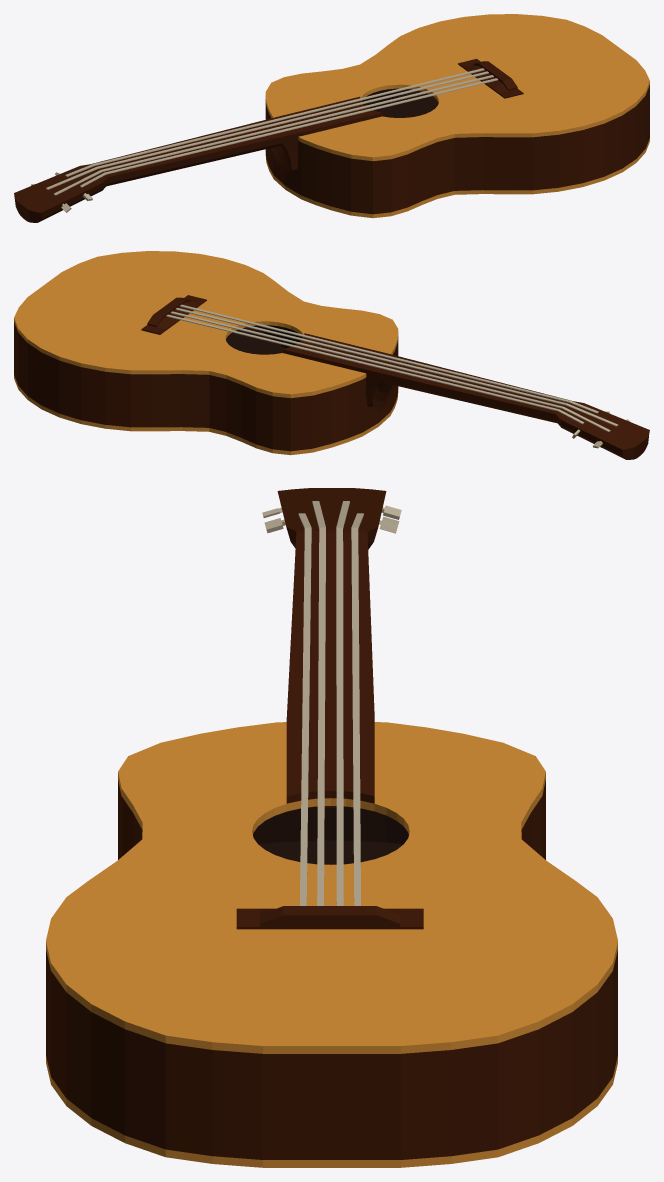
The model's file is guitar.fbx.
3 views of the same model, one above another, from view 1: azimuth 30°, elevation 25°; view 2: azimuth 150°, elevation 25°; view 3: azimuth 270°, elevation 25° (orthographic). The views are drawn at different scales.
Visible parts, largest first — view 1: Guitar_Body, Strings_and_Bridge.001; view 2: Guitar_Body, Strings_and_Bridge.001; view 3: Guitar_Body, Strings_and_Bridge.001.
Boxes of the visible parts, bbox=[...] form: Guitar_Body: bbox=[14, 14, 649, 222]; Strings_and_Bridge.001: bbox=[46, 59, 523, 195]; Guitar_Body: bbox=[14, 251, 649, 459]; Strings_and_Bridge.001: bbox=[141, 295, 618, 432]; Guitar_Body: bbox=[46, 488, 617, 1167]; Strings_and_Bridge.001: bbox=[236, 501, 423, 929].
Size of what is drawn, in the model's own units: 823 by 89.58 by 342.
